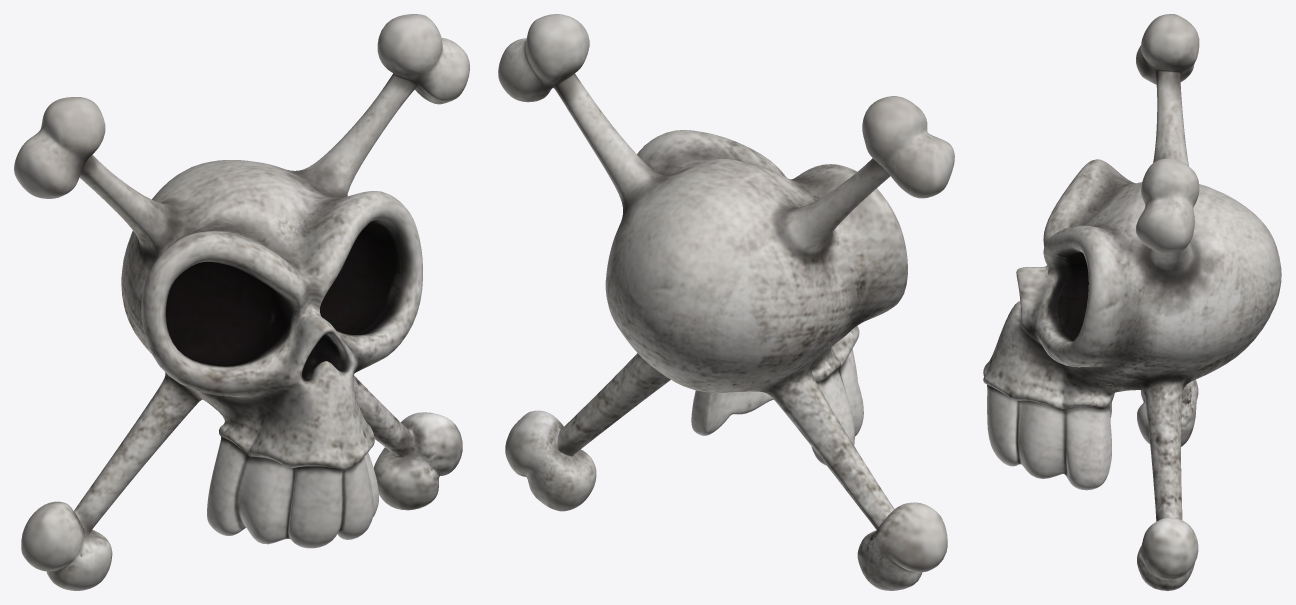
Rendered from pirate_skull.glb.
The picture shows the model from 3 angles, left to right: view 1: azimuth 30°, elevation 25°; view 2: azimuth 150°, elevation 25°; view 3: azimuth 270°, elevation 25°; orthographic projection. The views are drawn at different scales.
Parts seen in each view (by area): view 1: Material-PirateSkull; view 2: Material-PirateSkull; view 3: Material-PirateSkull.
Part boxes in pixels (x1,y1,x2,y2): Material-PirateSkull: (14, 14, 469, 590); Material-PirateSkull: (498, 14, 954, 590); Material-PirateSkull: (983, 14, 1281, 590).
Bounding box in the file's own units: 0.2812 × 0.2954 × 0.1865.
1 material, 1 textured.
